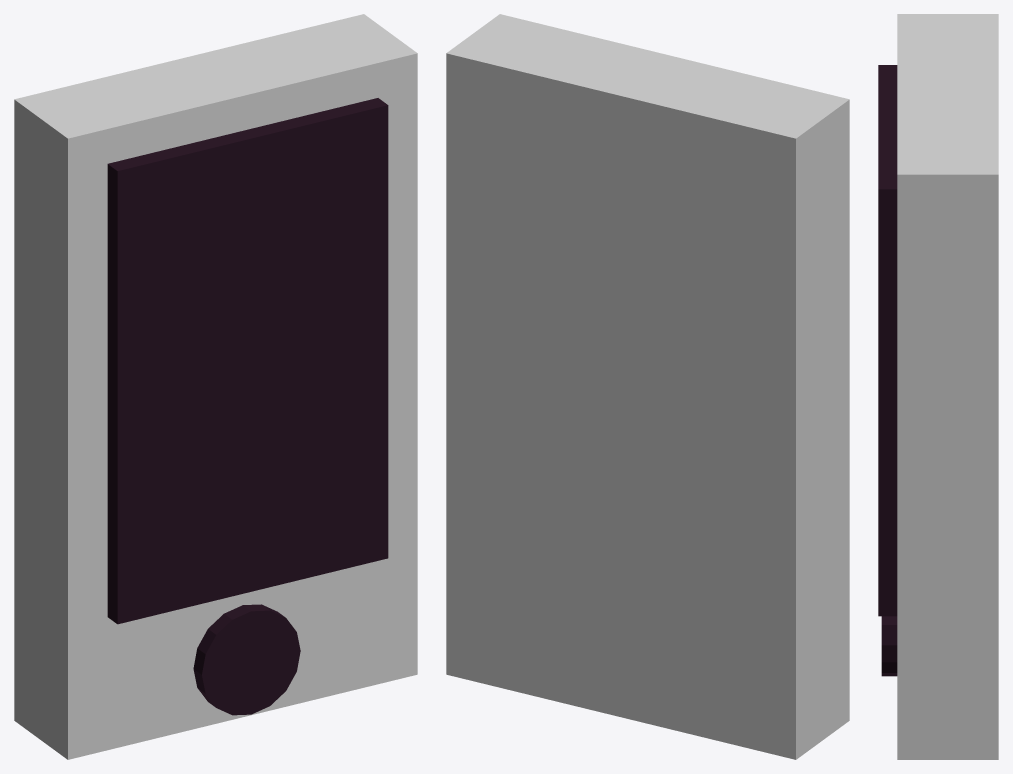
Rendered from phone.fbx.
The picture shows the model from 3 angles, left to right: view 1: azimuth 30°, elevation 25°; view 2: azimuth 150°, elevation 25°; view 3: azimuth 270°, elevation 25°; orthographic projection. The views are drawn at different scales.
Parts seen in each view (by area): view 1: Cylinder; view 2: Cylinder; view 3: Cylinder.
Part boxes in pixels (x1,y1,x2,y2): Cylinder: [14, 14, 417, 759]; Cylinder: [446, 14, 849, 759]; Cylinder: [878, 14, 998, 759].
Size of the model in its own units: 118 by 201 by 37.35.
